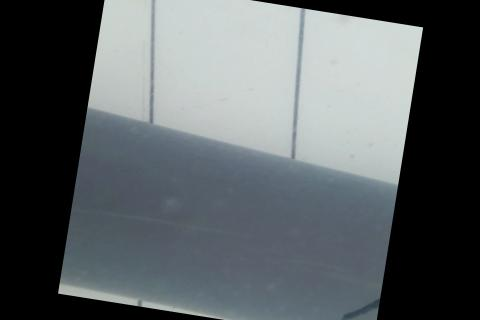keretakan: (323, 285, 381, 320)
